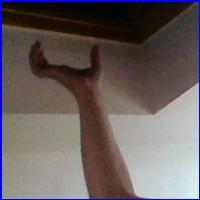space: (20, 39, 109, 95)
